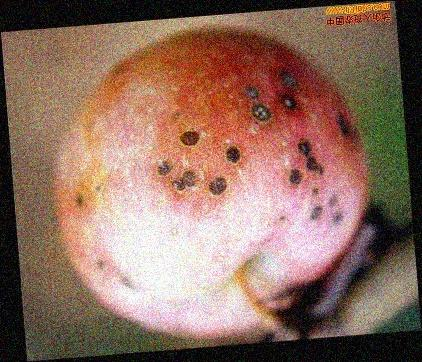rotten apple: (53, 30, 366, 337)
